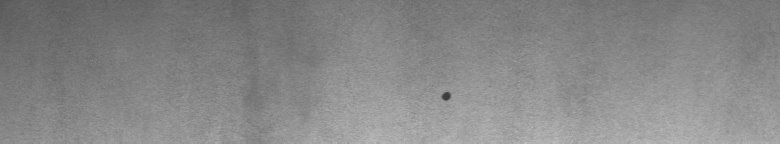fi: (436, 84, 456, 108)
